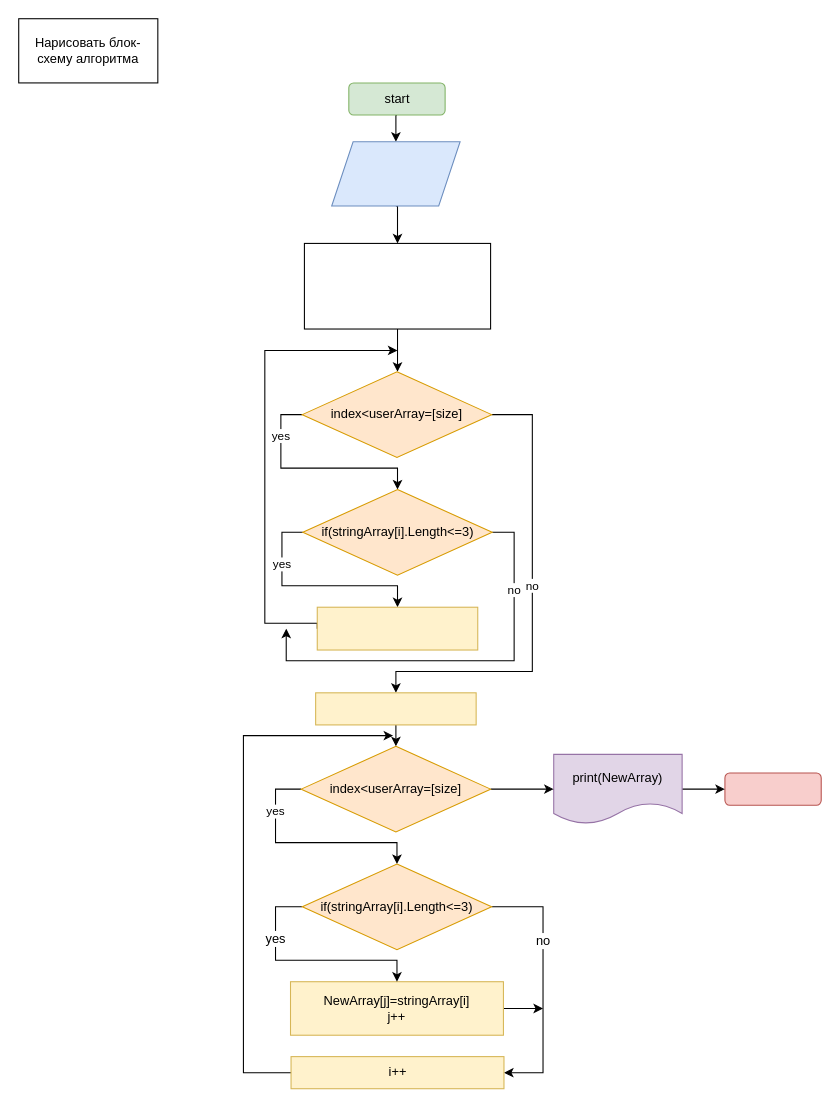
Image size: 840x1107. Some labels were removed from this diagram. Here are the shapes that lost their labels. From the top down, the centre of each, then its label:
At (395,173): "userArray[size] userArray[i]".
At (397,285): "userArray=[size] index=0 i=0 j=0".
At (397,628): "count++ index++ i++".
At (395,708): "index=0 i=0".
At (772,788): "end".
